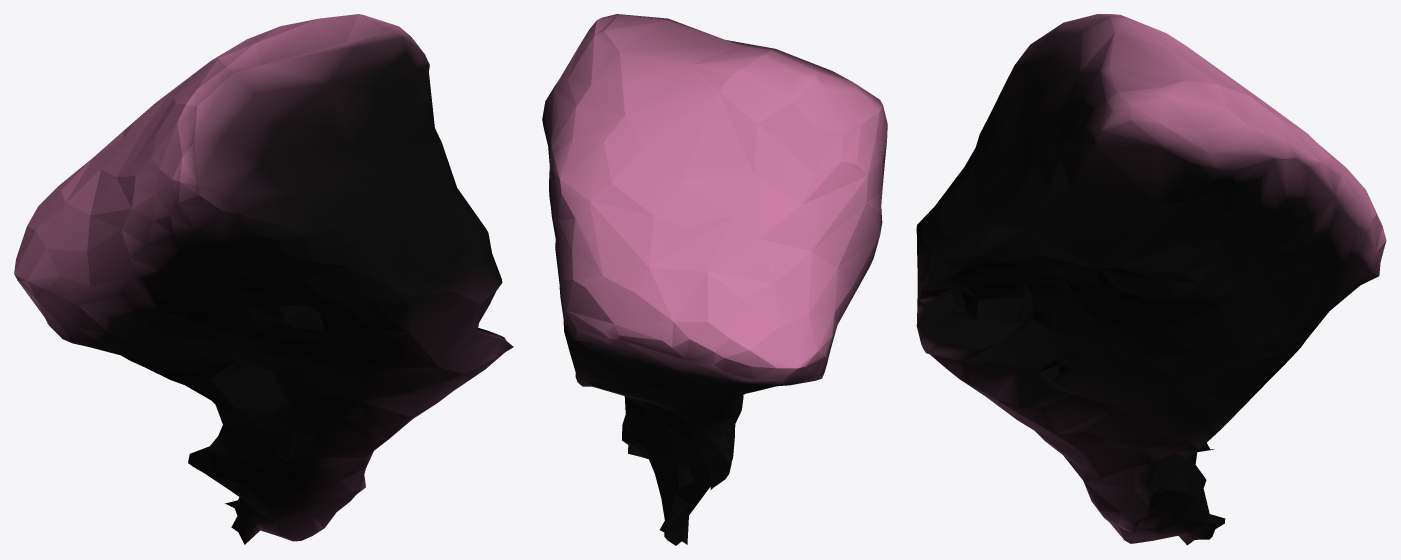
File: Geometry7_lao.dae
The picture shows the model from 3 angles, left to right: view 1: azimuth 30°, elevation 25°; view 2: azimuth 150°, elevation 25°; view 3: azimuth 270°, elevation 25°; orthographic projection. The views are drawn at different scales.
Visible parts, largest first — view 1: node; view 2: node; view 3: node.
Part boxes in pixels (box(x1,y1,x2,y2)): node: box(14, 14, 513, 544); node: box(542, 14, 887, 545); node: box(916, 14, 1386, 545).
Bounding box in the file's own units: 17.68 × 27.16 × 22.78.
